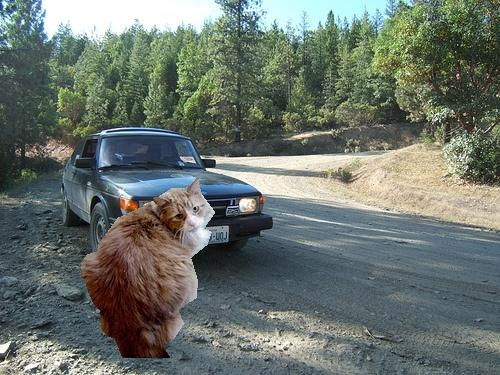tampered: (81, 178, 215, 358)
